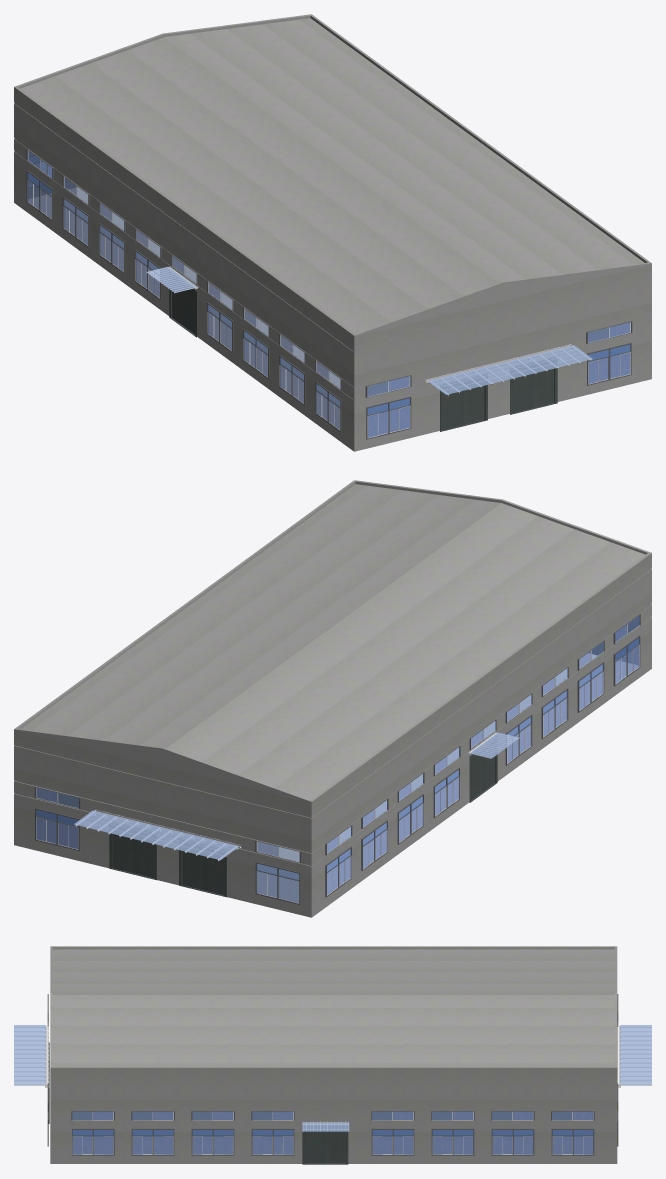
The model's file is JDCJA.dae.
3 renders of one model, top to bottom at view 1: azimuth 30°, elevation 25°; view 2: azimuth 150°, elevation 25°; view 3: azimuth 270°, elevation 25°, orthographic. The views are drawn at different scales.
Visible parts, largest first — view 1: SketchUp (×2), Door_Glass_Double_Header_6-0x6-8 (×3), group_16 (×2); view 2: SketchUp (×2), Door_Glass_Double_Header_6-0x6-8 (×3), group_16 (×2); view 3: SketchUp, group_16 (×3), group_8 (×8), Door_Glass_Double_Header_6-0x6-8.
Part boxes in pixels (x1,y1,x2,y2): SketchUp (×2): [14, 14, 651, 451]; Door_Glass_Double_Header_6-0x6-8 (×3): [169, 272, 557, 431]; group_16 (×2): [147, 266, 592, 394]; SketchUp (×2): [14, 480, 651, 917]; Door_Glass_Double_Header_6-0x6-8 (×3): [109, 736, 497, 897]; group_16 (×2): [74, 732, 519, 860]; SketchUp: [50, 946, 617, 1163]; group_16 (×3): [14, 1025, 651, 1131]; group_8 (×8): [72, 1128, 594, 1155]; Door_Glass_Double_Header_6-0x6-8: [302, 1126, 348, 1164].
Bounding box in the file's own units: 1119 × 2148 × 411.
Materials: 10 (2 with a texture image).
